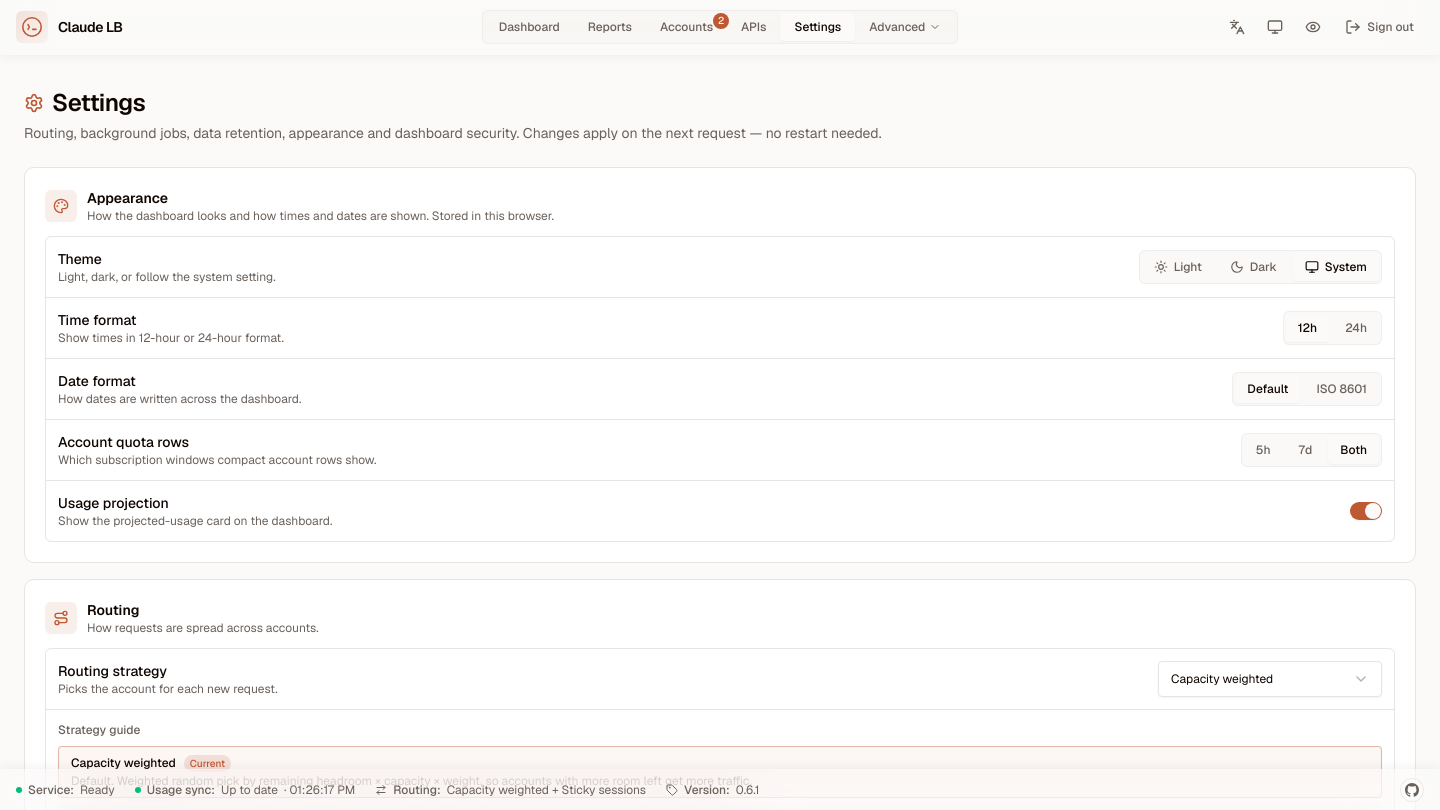
auth flow integration › signs out back to the sign-in screen
Click the button "Sign out": (1380, 27) x1=1335 y1=11 x2=1424 y2=43
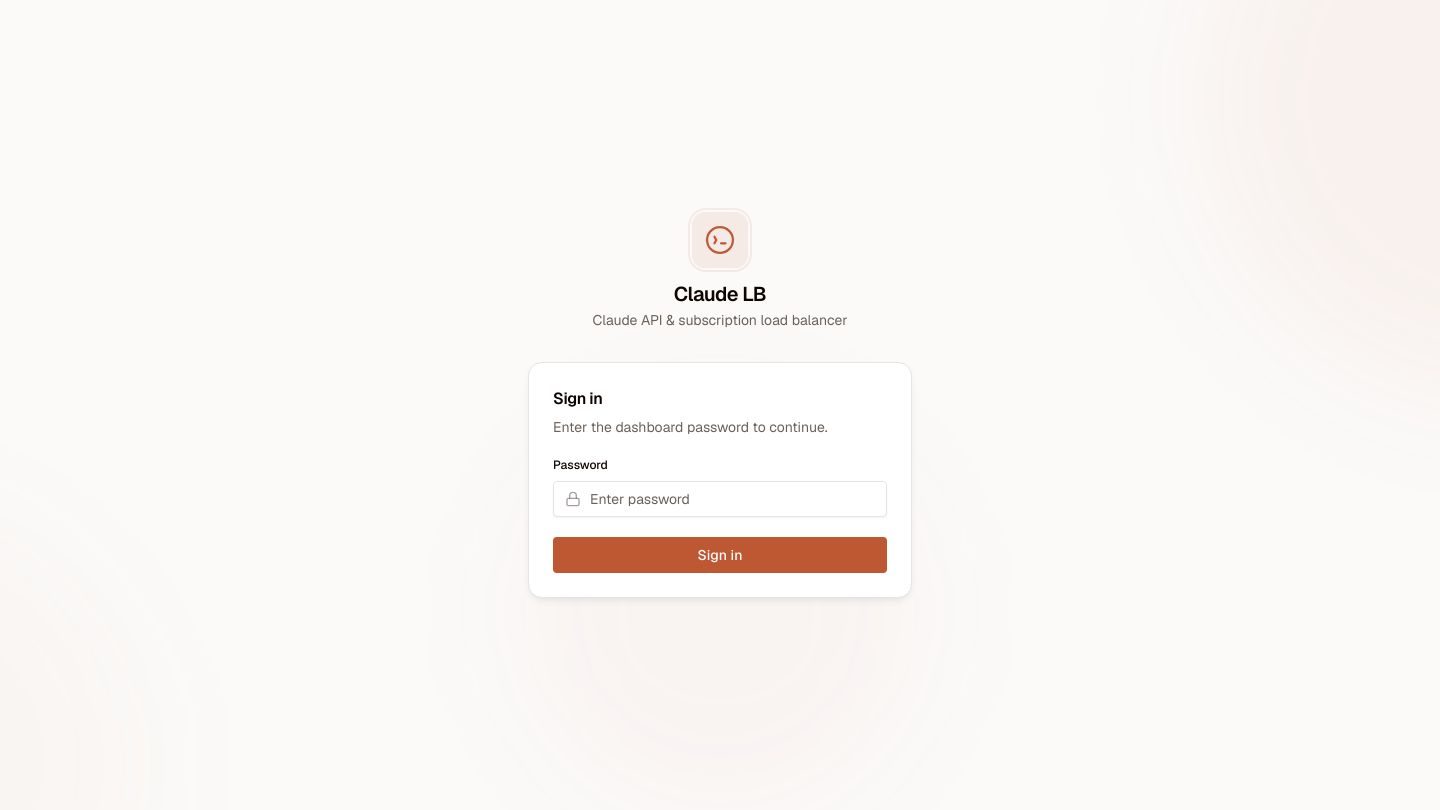
Check: the heading "Sign in" is shown, box x1=553 y1=388 x2=602 y2=409
